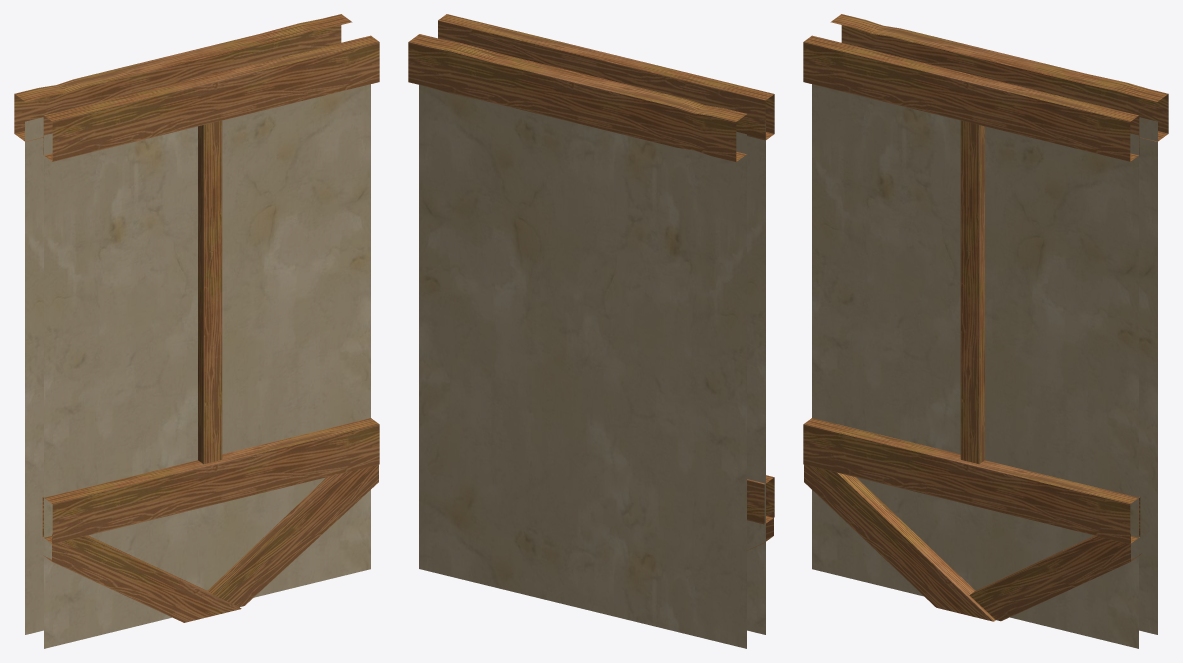
Rendered from Wall_Plaster_Straight.gltf.
3 renders of one model, left to right at view 1: azimuth 30°, elevation 25°; view 2: azimuth 150°, elevation 25°; view 3: azimuth 330°, elevation 25°, orthographic.
Parts seen in each view (by area): view 1: Wall_Plaster_Straight; view 2: Wall_Plaster_Straight; view 3: Wall_Plaster_Straight.
Boxes of the visible parts, x1=… form: Wall_Plaster_Straight: x1=14, y1=14, x2=379, y2=648; Wall_Plaster_Straight: x1=408, y1=14, x2=774, y2=648; Wall_Plaster_Straight: x1=803, y1=14, x2=1168, y2=648.
Bounding box in the file's own units: 2 × 3.12 × 0.4065.
2 materials, 2 textured.
